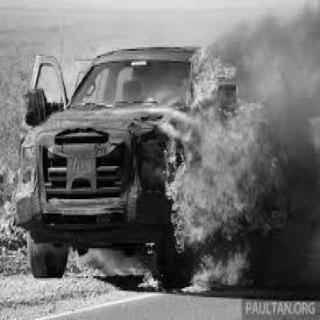Fire: (165, 44, 287, 292), (132, 265, 160, 291)
Smoke: (277, 15, 317, 289)
